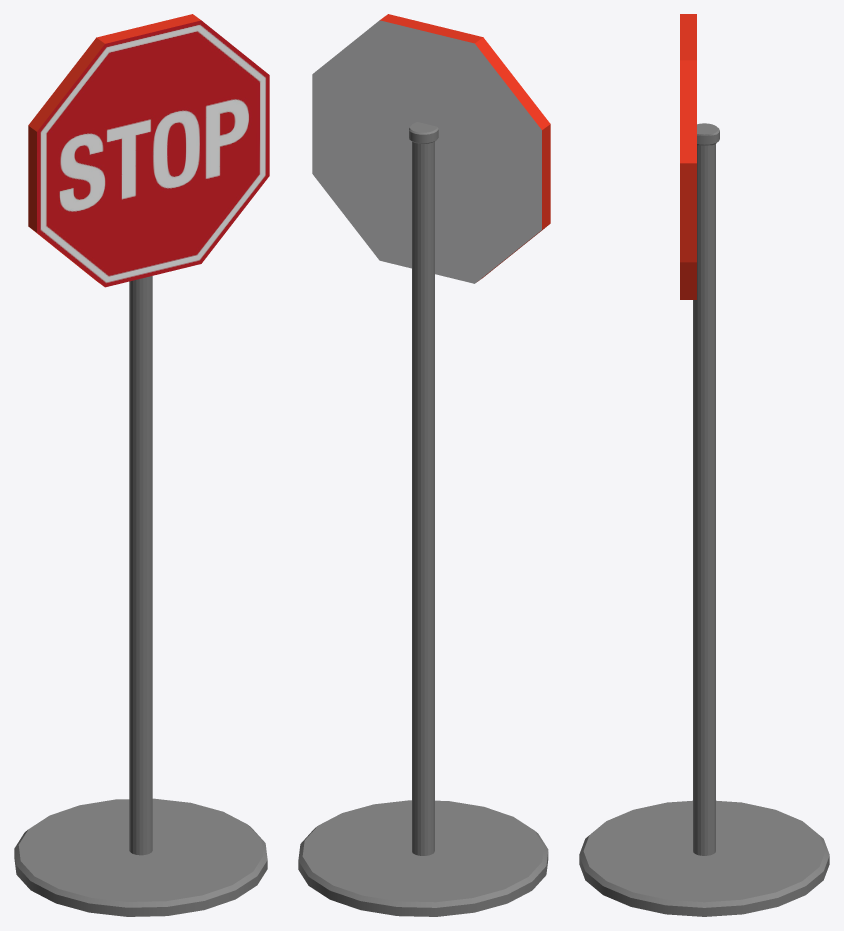
File: stop_sign.fbx
3 views of the same model, side by side, from view 1: azimuth 30°, elevation 25°; view 2: azimuth 150°, elevation 25°; view 3: azimuth 270°, elevation 25° (orthographic).
Visible parts, largest first — view 1: stop_sign; view 2: stop_sign; view 3: stop_sign.
Part boxes in pixels (x1,y1,x2,y2): stop_sign: [14, 14, 269, 916]; stop_sign: [298, 14, 550, 916]; stop_sign: [579, 14, 829, 916].
Size of the model in its own units: 6.99 by 24.11 by 6.62.
